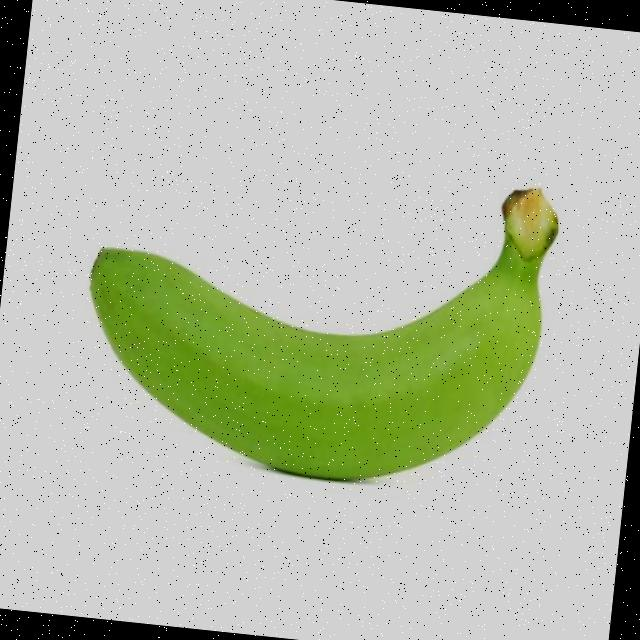banana: (72, 137, 566, 503)
